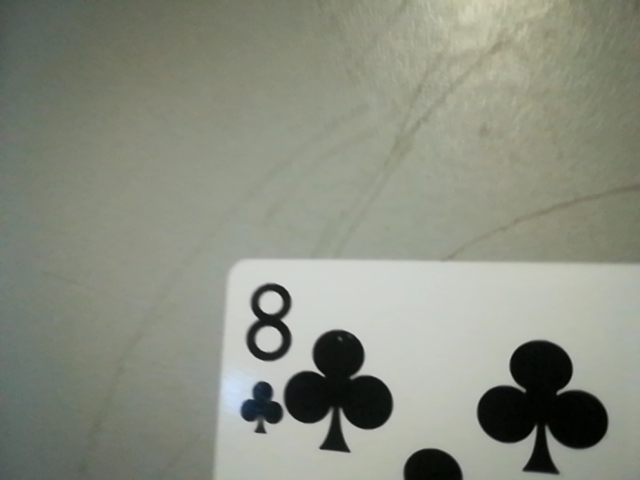mh 8: (226, 268, 298, 446)
